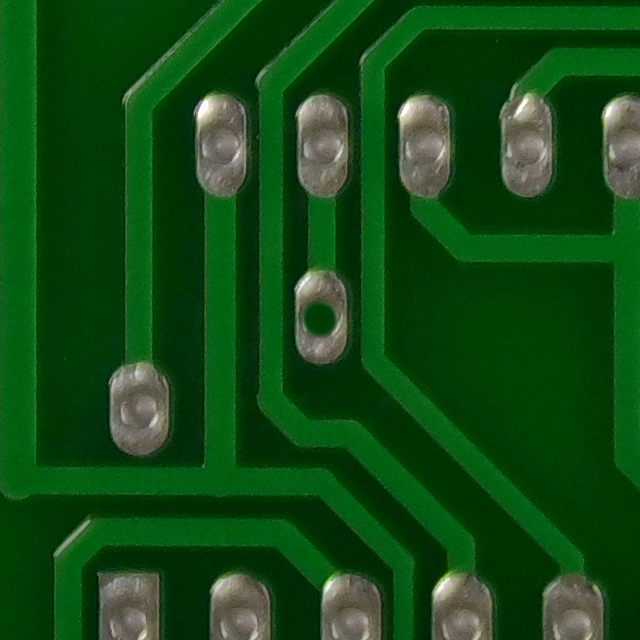missing_hole: (283, 284, 358, 357)
